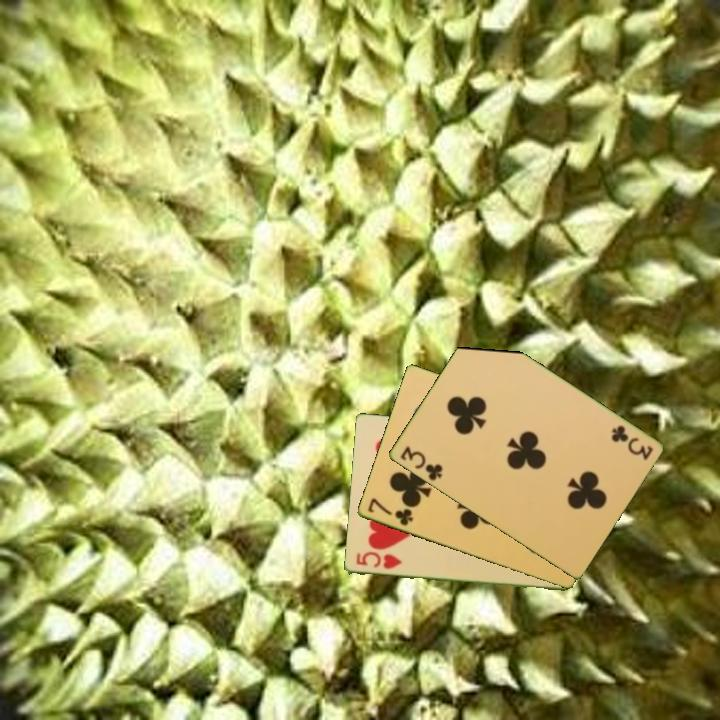3c: (396, 443, 445, 484), (607, 422, 656, 463)
5h: (352, 549, 404, 572)
7c: (364, 495, 416, 529)
